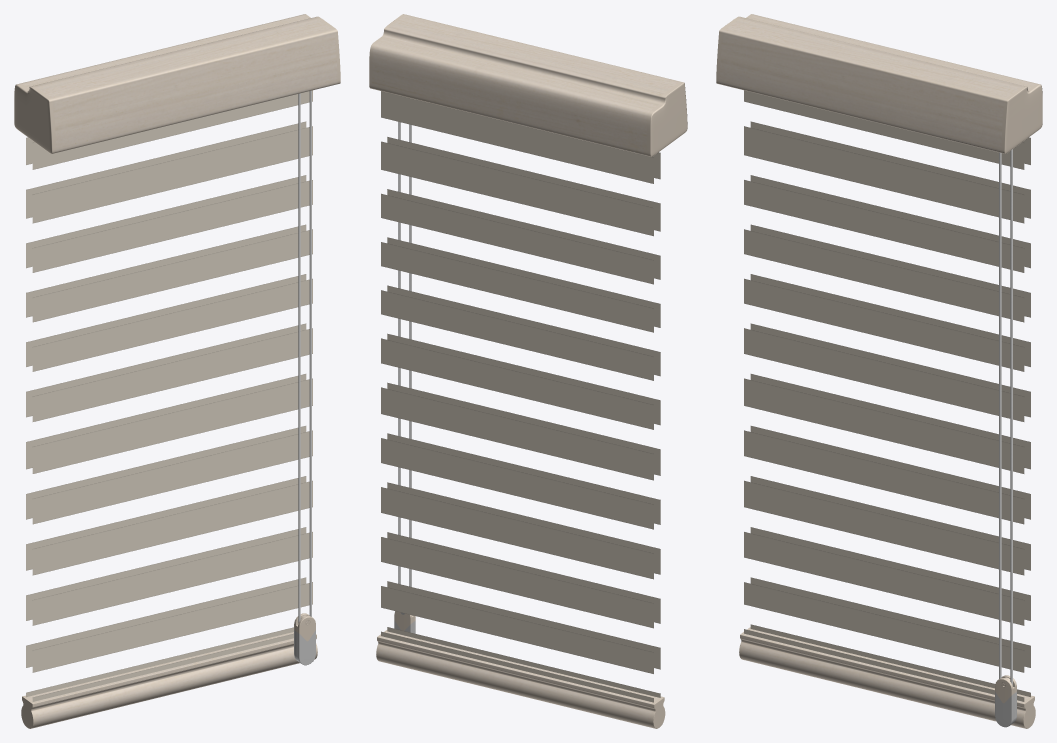
The model's file is curtain_02_01.001.fbx.
3 renders of one model, left to right at view 1: azimuth 30°, elevation 25°; view 2: azimuth 150°, elevation 25°; view 3: azimuth 330°, elevation 25°, orthographic. The views are drawn at different scales.
Visible parts, largest first — view 1: curtain_02_01.001; view 2: curtain_02_01.001; view 3: curtain_02_01.001.
Part boxes in pixels (bbox=[...]): curtain_02_01.001: bbox=[14, 14, 340, 728]; curtain_02_01.001: bbox=[369, 14, 687, 728]; curtain_02_01.001: bbox=[716, 14, 1042, 728].
Size of the model in its own units: 51.11 by 109 by 11.73.
Materials: 1 (1 with a texture image).
